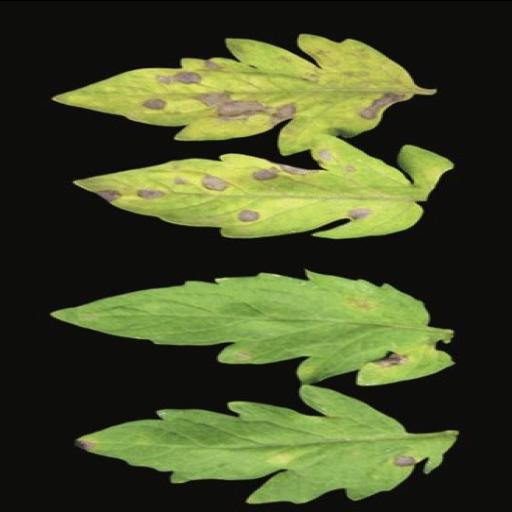disease_tomato: (46, 269, 452, 387), (68, 384, 458, 504), (53, 31, 415, 157), (70, 130, 452, 238)
